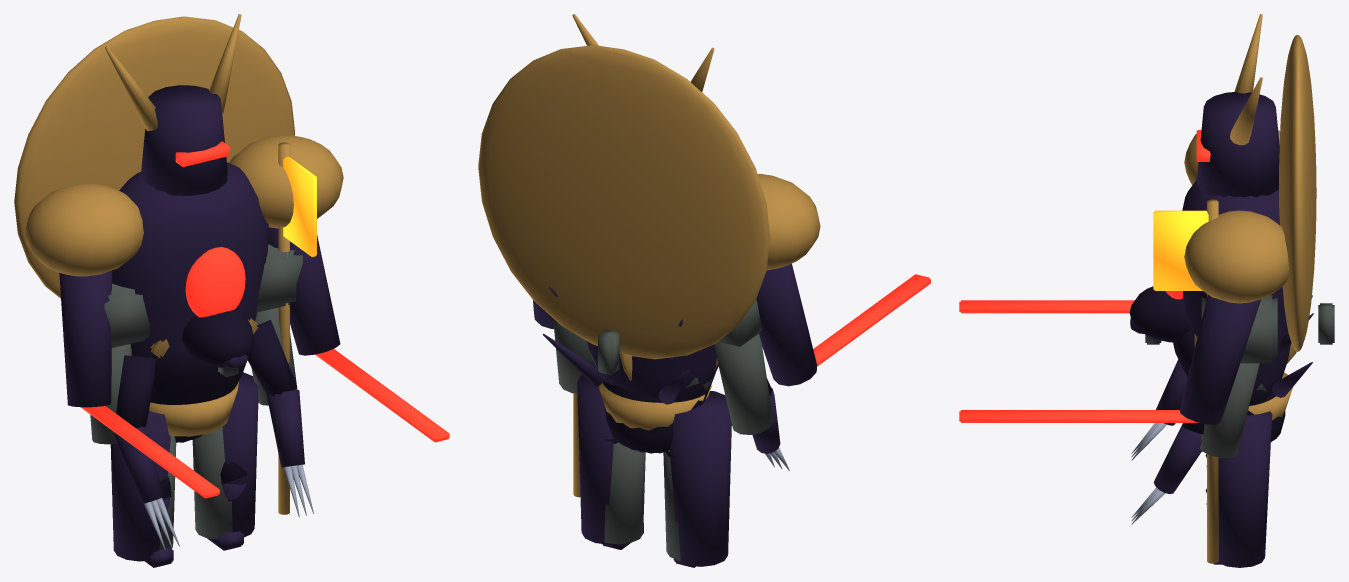
Rendered from enemies.glb.
3 views of the same model, side by side, from view 1: azimuth 30°, elevation 25°; view 2: azimuth 150°, elevation 25°; view 3: azimuth 270°, elevation 25° (orthographic). The views are drawn at different scales.
Parts seen in each view (by area): view 1: BossWarden, VoidStalker, RuinSentinel; view 2: BossWarden, RuinSentinel, VoidStalker, SkyWisp; view 3: BossWarden, RuinSentinel, VoidStalker, SkyWisp.
Part boxes in pixels (<box>): BossWarden: <box>14,14,449,561</box>; VoidStalker: <box>114,308,313,567</box>; RuinSentinel: <box>90,142,316,549</box>; BossWarden: <box>478,14,930,566</box>; RuinSentinel: <box>553,299,773,560</box>; VoidStalker: <box>543,287,789,567</box>; SkyWisp: <box>598,329,717,380</box>; BossWarden: <box>959,14,1316,567</box>; RuinSentinel: <box>1153,199,1292,563</box>; VoidStalker: <box>1129,286,1313,564</box>; SkyWisp: <box>1145,303,1334,363</box>.
Size of the model in its own units: 1.91 by 3.05 by 2.08.
